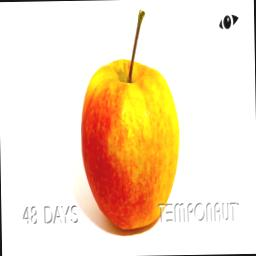Apple Ripe: (78, 1, 182, 232)
